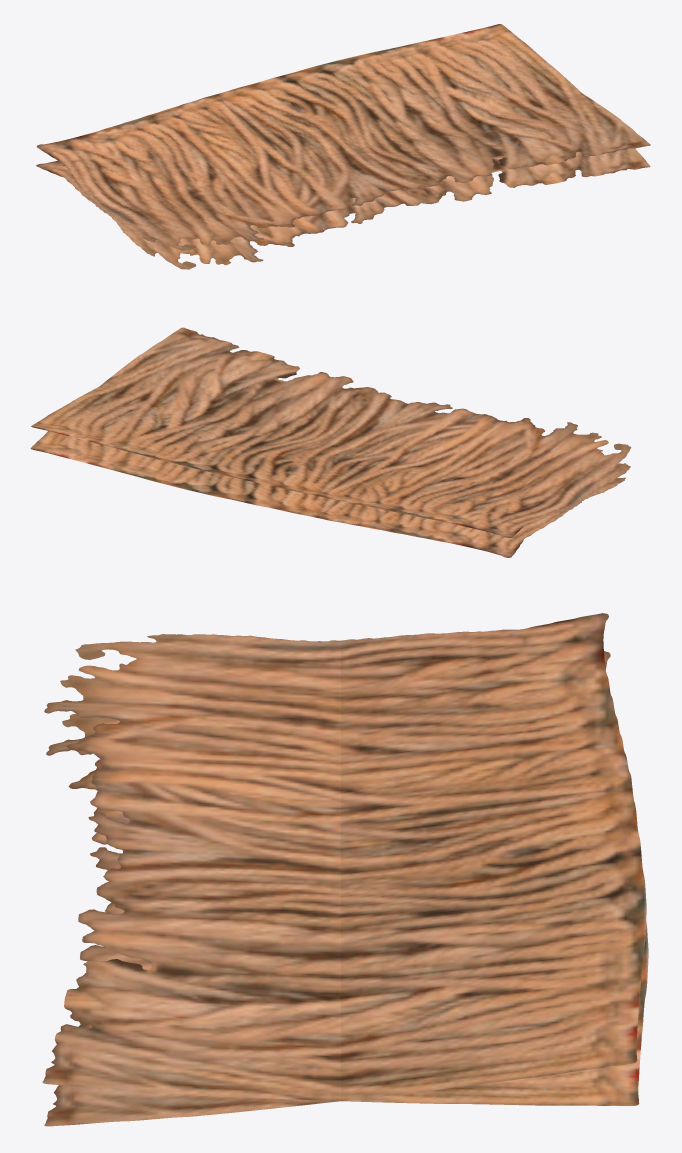
Rendered from Alpha_1.fbx.
3 views of the same model, one above another, from view 1: azimuth 30°, elevation 25°; view 2: azimuth 150°, elevation 25°; view 3: azimuth 270°, elevation 25° (orthographic). The views are drawn at different scales.
Visible parts, largest first — view 1: Plane_002; view 2: Plane_002; view 3: Plane_002.
Part boxes in pixels (bbox=[...]): Plane_002: bbox=[36, 24, 650, 269]; Plane_002: bbox=[30, 327, 631, 557]; Plane_002: bbox=[42, 613, 648, 1126].
Bounding box in the file's own units: 1.45 × 0.1024 × 0.8574.
